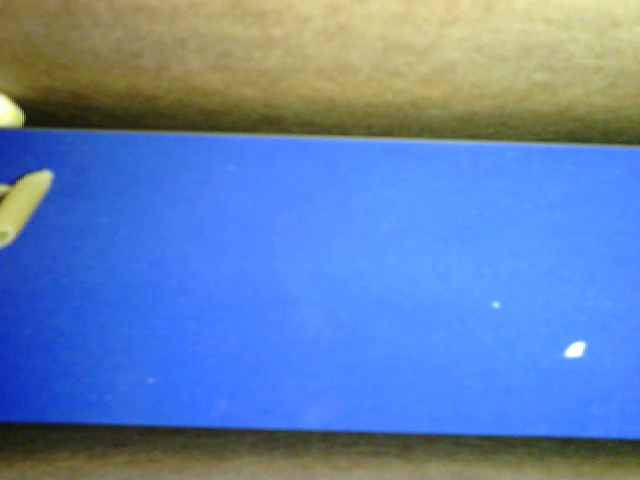penne: (1, 168, 56, 247)
